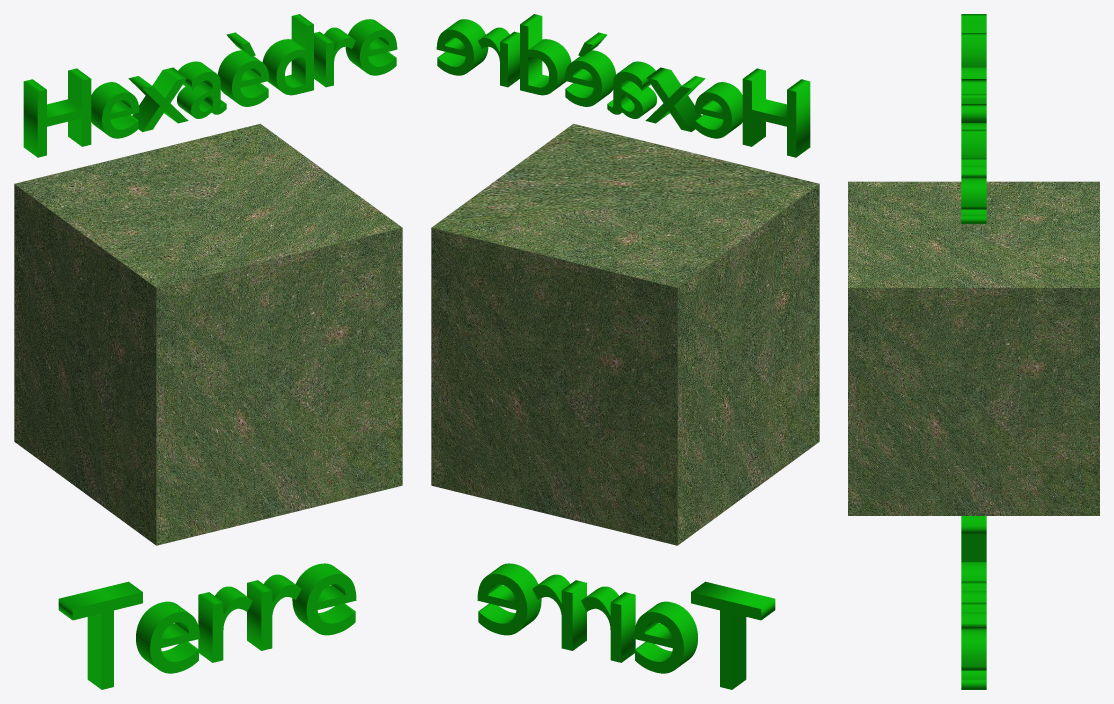
Rendered from Hexaedre.glb.
3 renders of one model, left to right at view 1: azimuth 30°, elevation 25°; view 2: azimuth 150°, elevation 25°; view 3: azimuth 270°, elevation 25°, orthographic. The views are drawn at different scales.
Visible parts, largest first — view 1: Cube, Text.006, Text.001; view 2: Cube, Text.006, Text.001; view 3: Cube, Text.006, Text.001.
Boxes of the visible parts, x1,y1,x2,y2 form: Cube: (14, 123, 402, 545); Text.006: (23, 14, 397, 157); Text.001: (58, 563, 356, 689); Cube: (431, 123, 819, 545); Text.006: (436, 14, 810, 157); Text.001: (477, 563, 775, 689); Cube: (848, 181, 1099, 515); Text.006: (961, 14, 986, 223); Text.001: (961, 516, 986, 689).
Size of the model in its own units: 2.92 by 4.77 by 2.
Materials: 2 (1 with a texture image).
